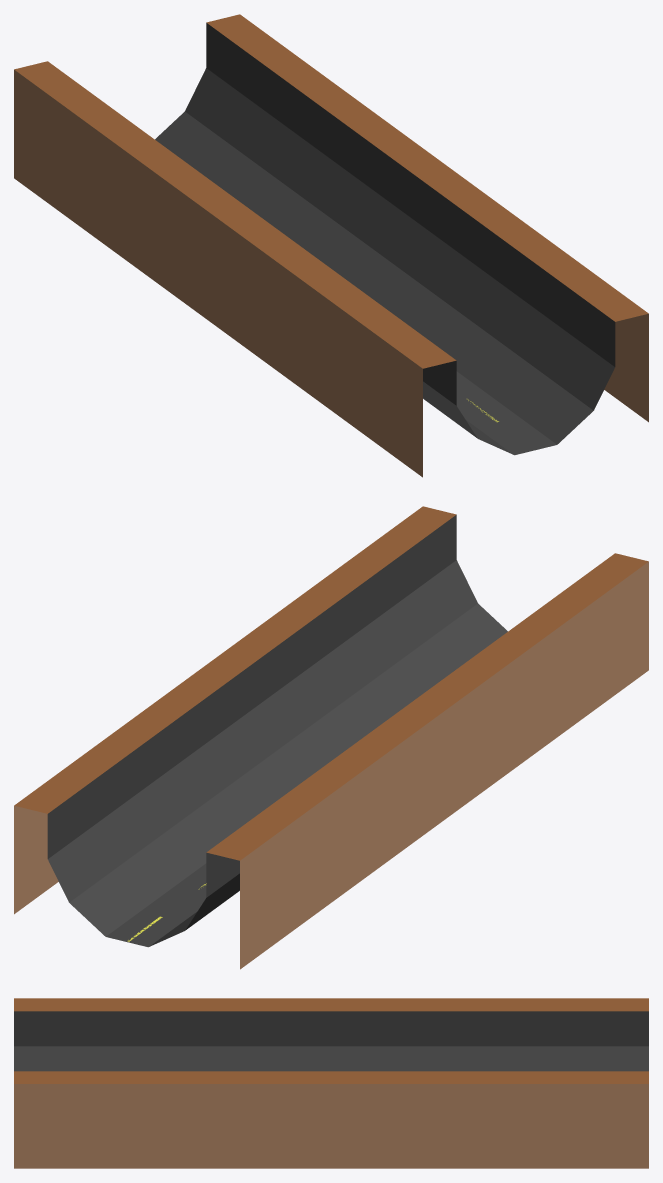
File: pipe.obj
The picture shows the model from 3 angles, top to bottom: view 1: azimuth 30°, elevation 25°; view 2: azimuth 150°, elevation 25°; view 3: azimuth 270°, elevation 25°; orthographic projection. The views are drawn at different scales.
Bounding box in the file's own units: 328 × 151 × 1028.
